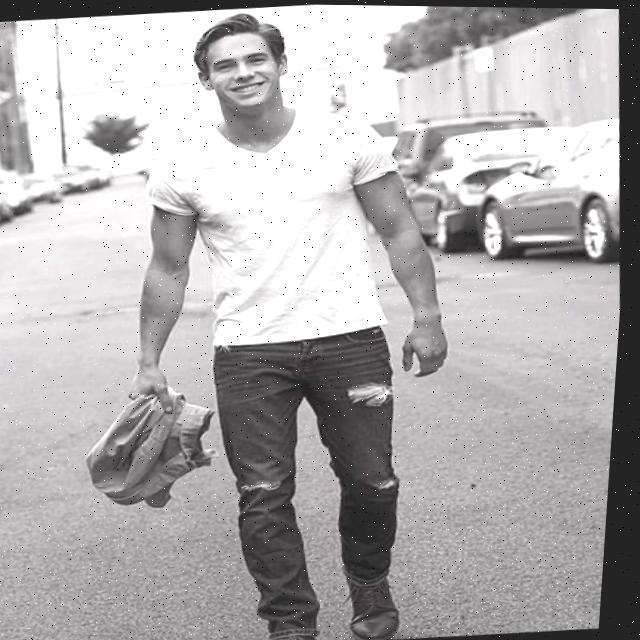Upper-Body: (148, 106, 400, 343)
